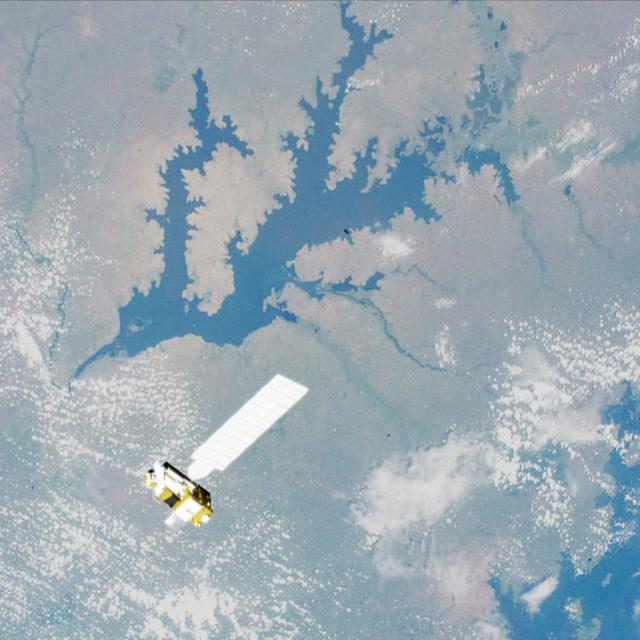satellite: (127, 373, 321, 552)
